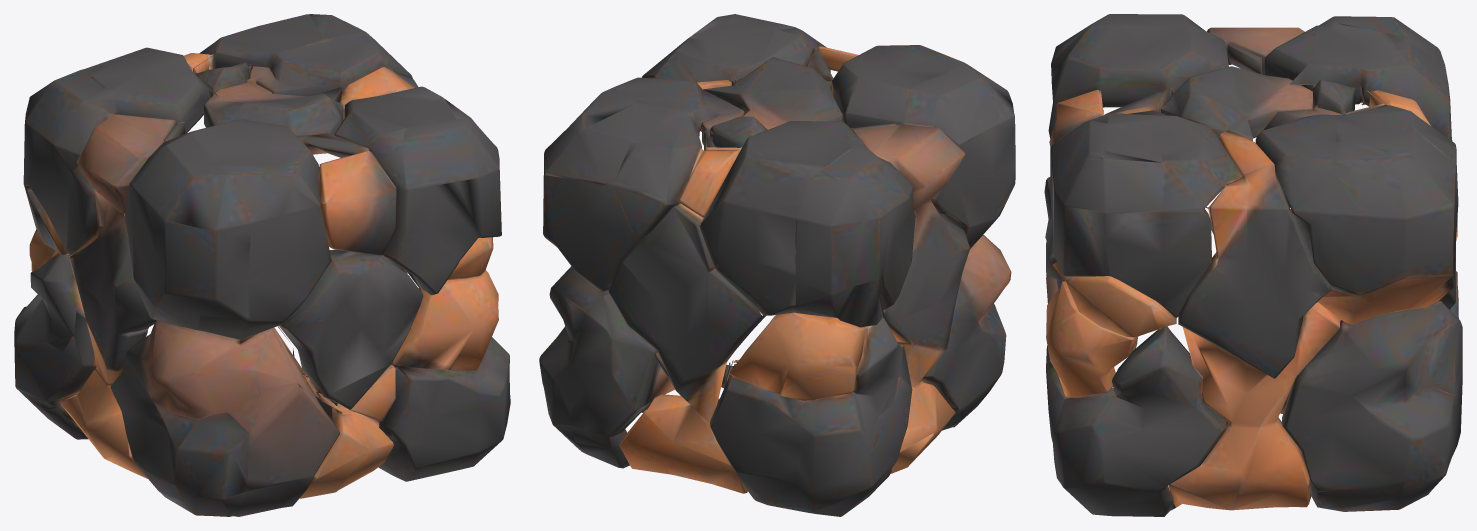
File: volcanic_block.glb
3 views of the same model, side by side, from view 1: azimuth 30°, elevation 25°; view 2: azimuth 150°, elevation 25°; view 3: azimuth 270°, elevation 25° (orthographic). The views are drawn at different scales.
Visible parts, largest first — view 1: tripo_node_64d8c433-0f4e-47fc-a19a-c52b33468a54; view 2: tripo_node_64d8c433-0f4e-47fc-a19a-c52b33468a54; view 3: tripo_node_64d8c433-0f4e-47fc-a19a-c52b33468a54.
Boxes of the visible parts, x1,y1,x2,y2 form: tripo_node_64d8c433-0f4e-47fc-a19a-c52b33468a54: [14, 14, 510, 516]; tripo_node_64d8c433-0f4e-47fc-a19a-c52b33468a54: [539, 14, 1015, 516]; tripo_node_64d8c433-0f4e-47fc-a19a-c52b33468a54: [1044, 14, 1462, 516].
Size of the model in its own units: 0.998 by 0.9785 by 0.9941.
Materials: 1 (1 with a texture image).
